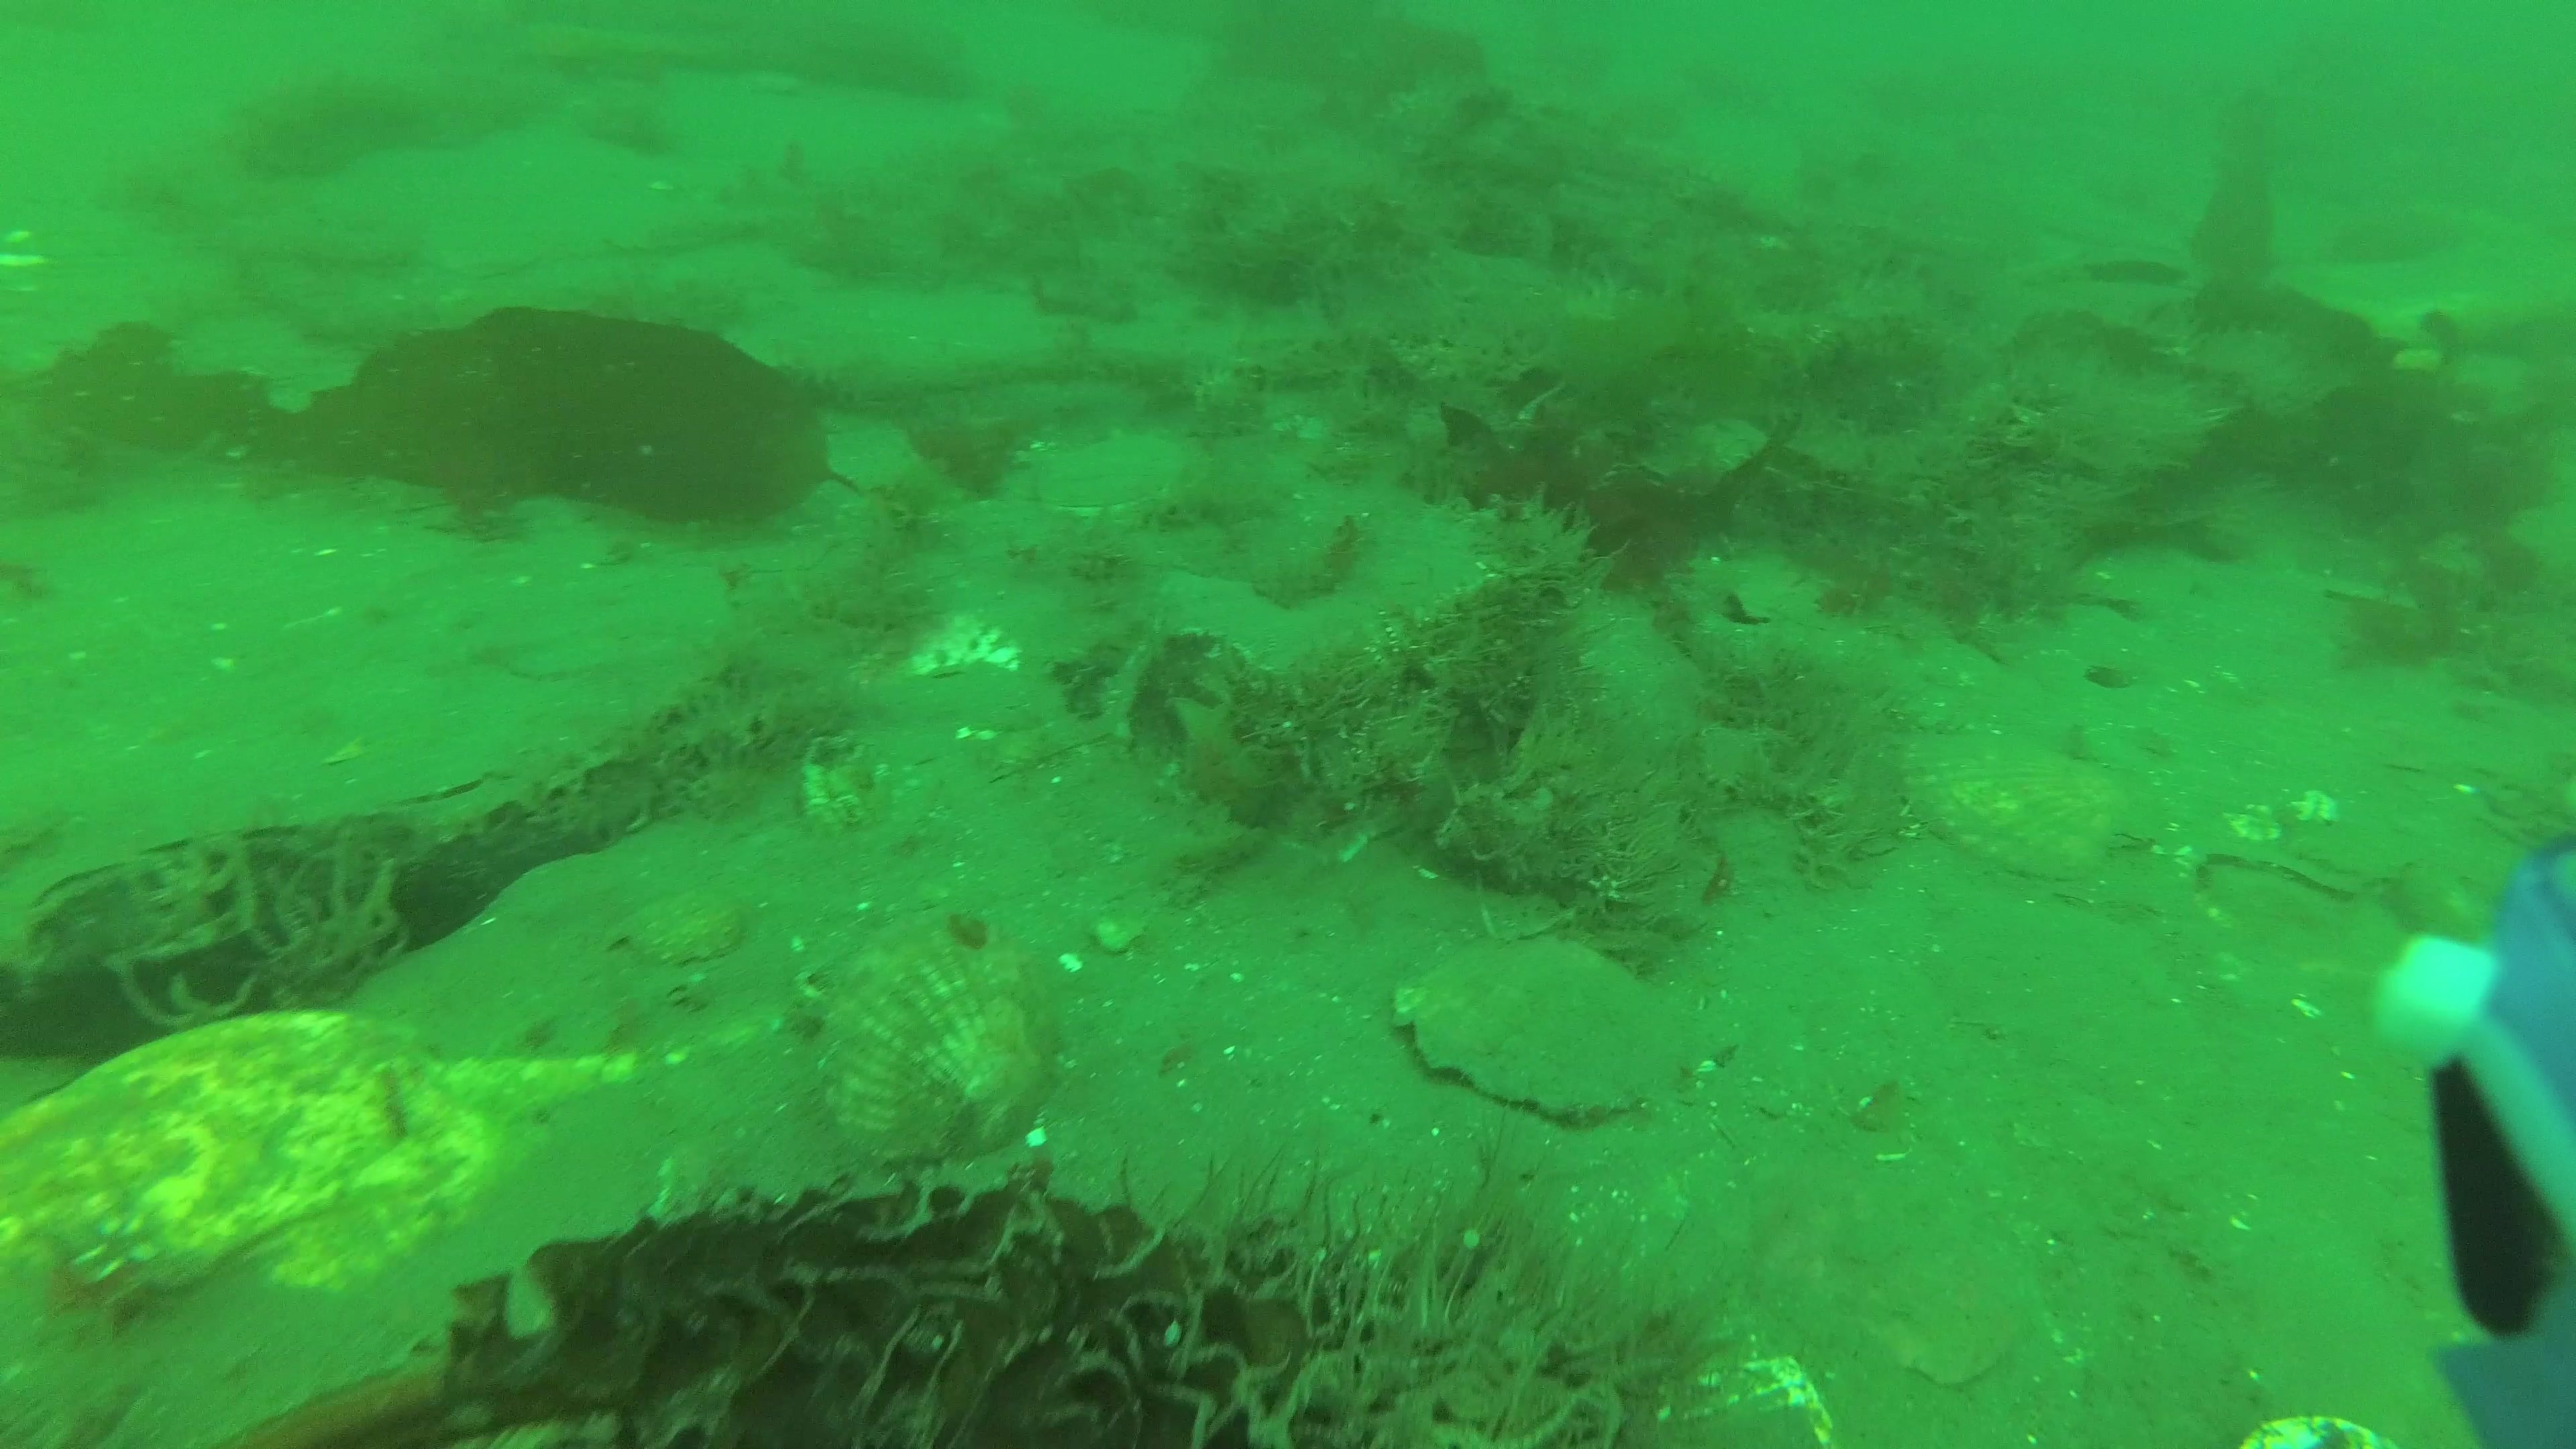scallop: (809, 927, 1076, 1175), (1893, 718, 2173, 888)
